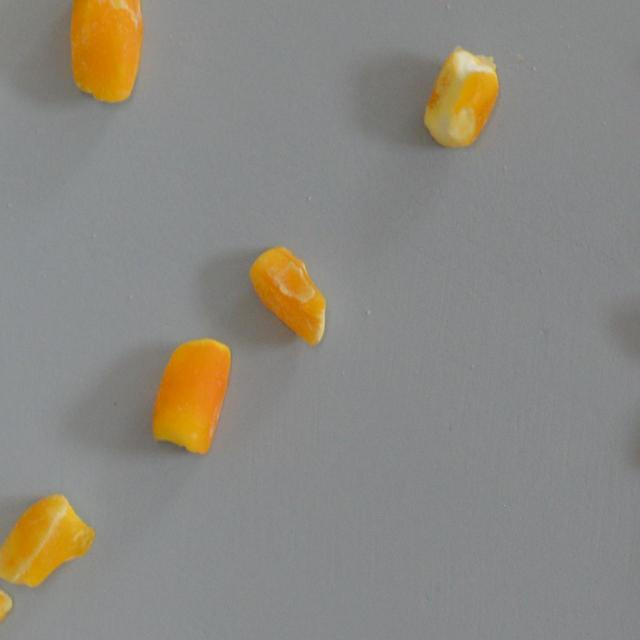pelicula: (239, 231, 345, 361), (408, 31, 514, 160), (54, 0, 159, 106), (0, 486, 98, 596)
